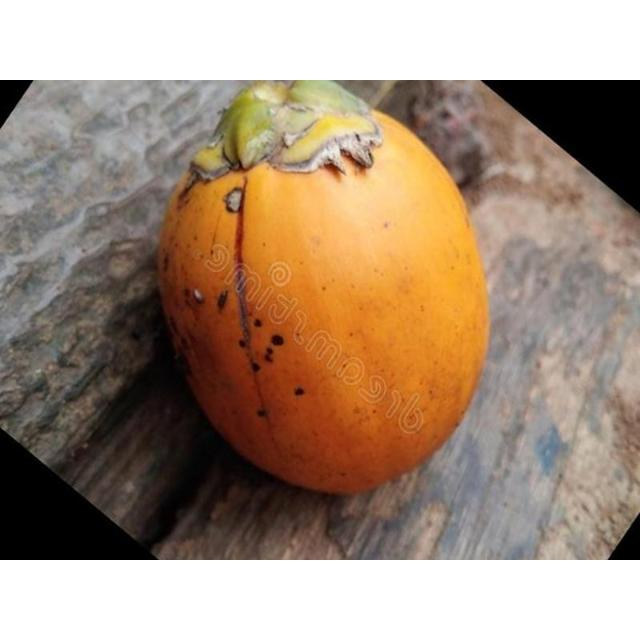good: (154, 80, 493, 499)
